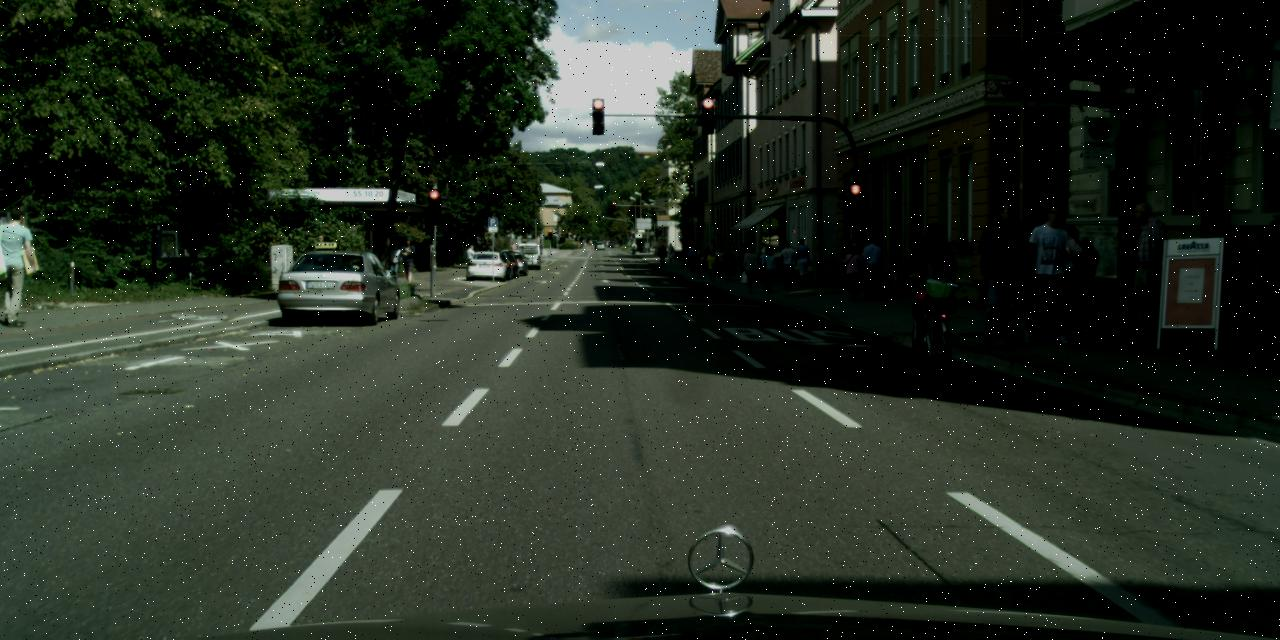ped: (974, 201, 1032, 344), (1021, 202, 1078, 341), (1120, 202, 1174, 338), (906, 222, 958, 350), (1033, 228, 1078, 337), (0, 206, 38, 325), (1049, 223, 1092, 328), (989, 246, 1026, 338), (860, 235, 885, 297), (308, 232, 332, 290), (842, 245, 864, 299), (792, 238, 812, 286), (778, 240, 797, 288), (758, 245, 777, 292), (740, 246, 759, 292), (385, 240, 403, 284), (399, 240, 417, 284), (736, 242, 750, 276), (721, 247, 734, 280), (713, 246, 726, 278), (705, 248, 718, 280), (686, 242, 696, 270), (695, 250, 704, 276), (468, 244, 477, 267), (681, 244, 688, 265), (659, 245, 666, 264), (667, 242, 674, 260), (630, 241, 636, 257)
